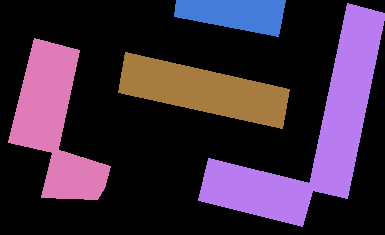parkingspot: (308, 3, 385, 198), (118, 52, 289, 128), (8, 38, 79, 153), (198, 158, 314, 226), (174, 0, 285, 36), (41, 148, 110, 199)
